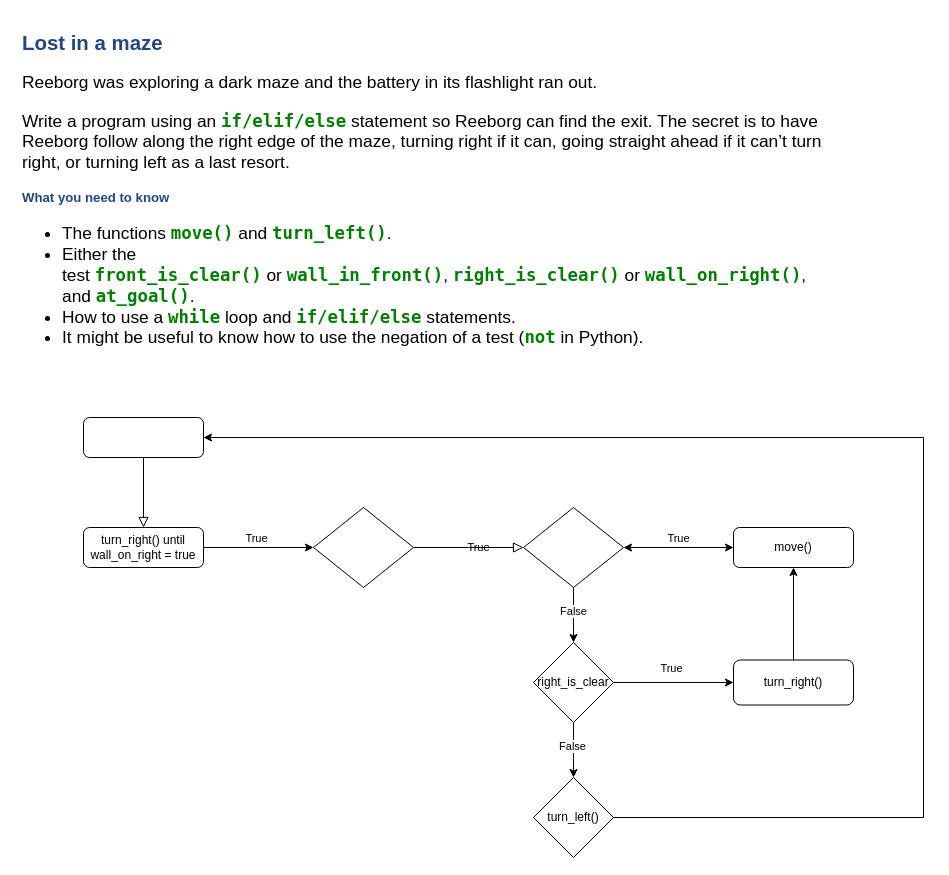
The diagram is 949 pixels wide and 875 high, and some of its shapes have lost their labels. The box of each missing label's shape, as (x1, y1, x2, y2) in pixels:
front_is_clear(): (522, 506, 624, 588)
wall_on_right(): (312, 506, 414, 588)
While not at_goal(): (82, 416, 204, 458)
